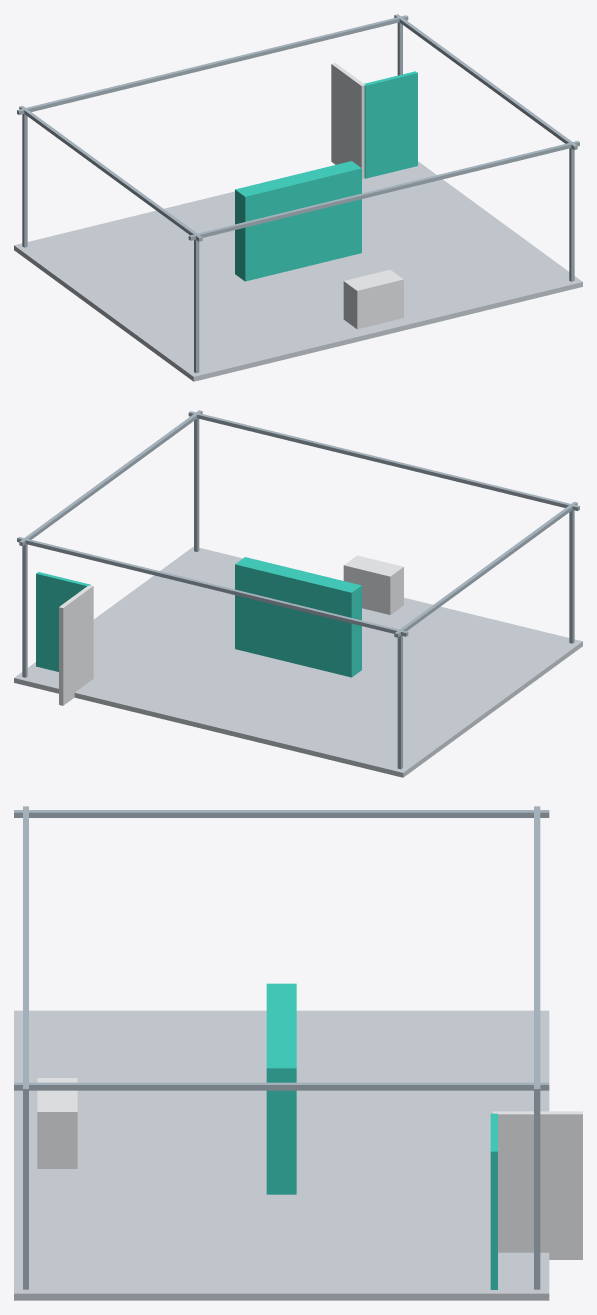
3 renders of one model, top to bottom at view 1: azimuth 30°, elevation 25°; view 2: azimuth 150°, elevation 25°; view 3: azimuth 270°, elevation 25°, orthographic. The views are drawn at different scales.
Visible parts, largest first — view 1: Exhibition Booth Concept; view 2: Exhibition Booth Concept; view 3: Exhibition Booth Concept.
Boxes of the visible parts, left/top/right/bottom form: Exhibition Booth Concept: left=14, top=14, right=582, bottom=381; Exhibition Booth Concept: left=14, top=410, right=582, bottom=777; Exhibition Booth Concept: left=14, top=806, right=582, bottom=1300.
Size of the model in its own units: 10 by 3.49 by 8.51.
